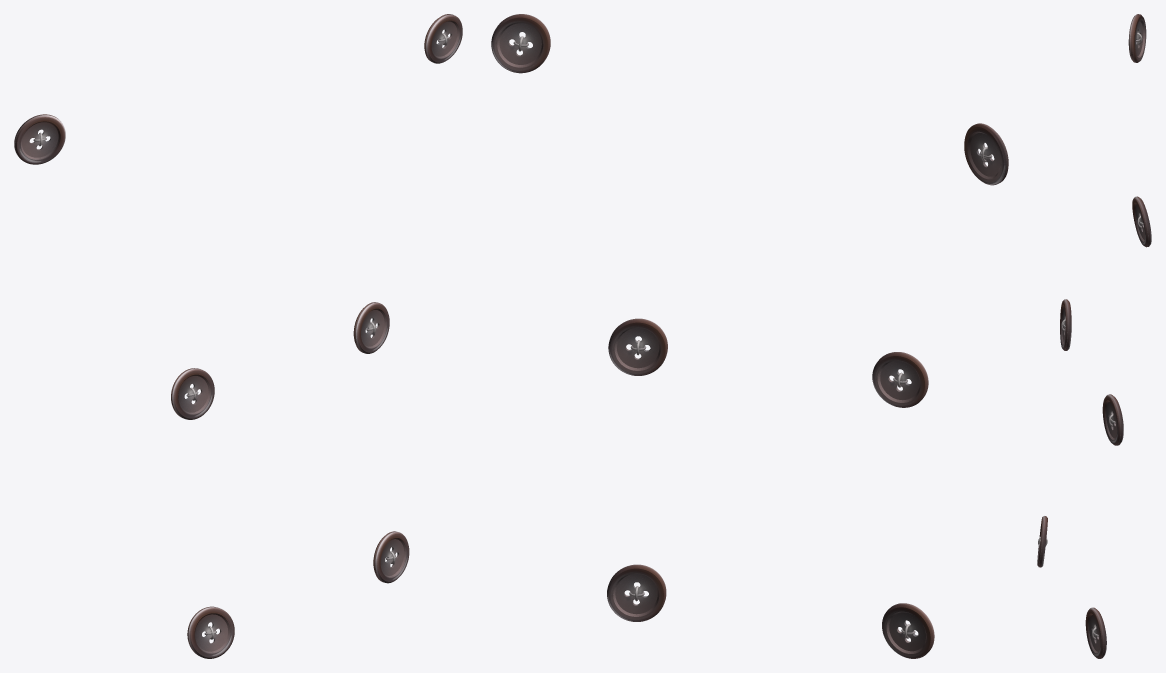
File: double_breasted_buttons.glb
3 renders of one model, left to right at view 1: azimuth 30°, elevation 25°; view 2: azimuth 150°, elevation 25°; view 3: azimuth 270°, elevation 25°, orthographic. The views are drawn at different scales.
Parts seen in each view (by area): view 1: double_breasted_buttons; view 2: double_breasted_buttons; view 3: double_breasted_buttons.
Boxes of the visible parts, x1,y1,x2,y2 form: double_breasted_buttons: (14,14,462,658); double_breasted_buttons: (491,14,1008,658); double_breasted_buttons: (1037,14,1151,658).
Bounding box in the file's own units: 0.028 × 0.0318 × 0.00665.
Materials: 1 (1 with a texture image).
